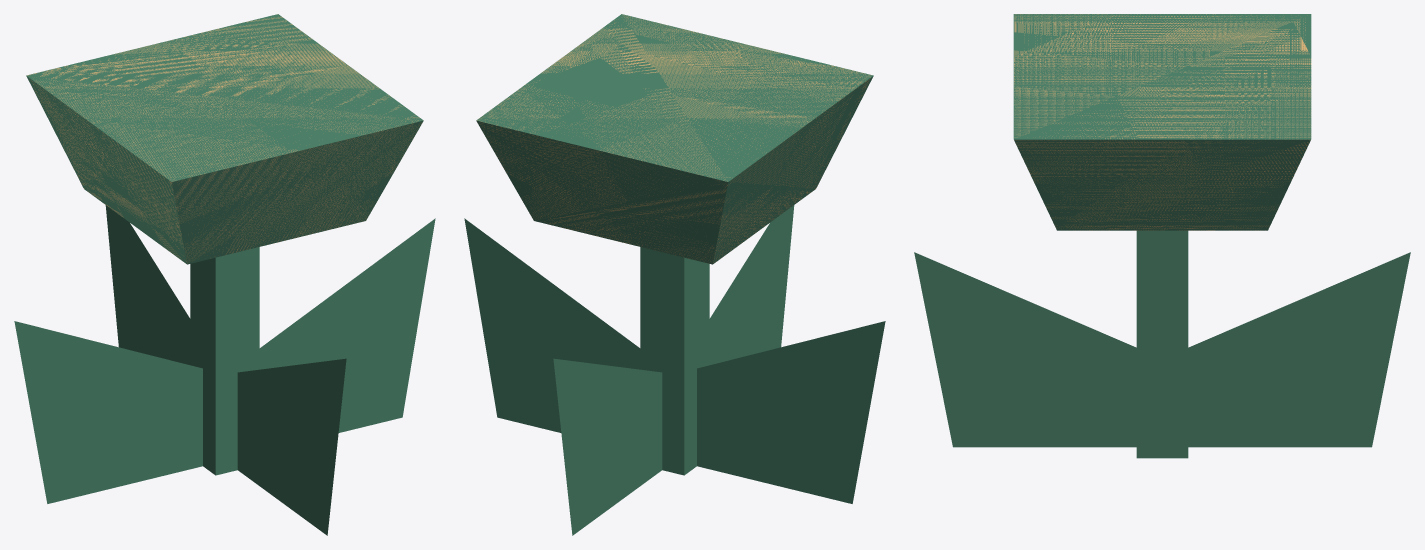
File: naturePack_flat_006.fbx
The picture shows the model from 3 angles, left to right: view 1: azimuth 30°, elevation 25°; view 2: azimuth 150°, elevation 25°; view 3: azimuth 270°, elevation 25°; orthographic projection. The views are drawn at different scales.
Parts seen in each view (by area): view 1: Mesh3_Flower_Yellow Model, Mesh4_Flower_Yellow Model, Mesh1_Flower_Yellow Model, Mesh2_Flower_Yellow Model, Mesh5_Flower_Yellow Model; view 2: Mesh3_Flower_Yellow Model, Mesh4_Flower_Yellow Model, Mesh1_Flower_Yellow Model, Mesh5_Flower_Yellow Model, Mesh2_Flower_Yellow Model; view 3: Mesh3_Flower_Yellow Model, Mesh2_Flower_Yellow Model, Mesh5_Flower_Yellow Model.
Boxes of the visible parts, x1,y1,x2,y2 form: Mesh3_Flower_Yellow Model: (26,14,423,475); Mesh4_Flower_Yellow Model: (14,321,202,503); Mesh1_Flower_Yellow Model: (259,218,435,432); Mesh2_Flower_Yellow Model: (237,358,346,535); Mesh5_Flower_Yellow Model: (105,205,190,364); Mesh3_Flower_Yellow Model: (476,14,873,475); Mesh4_Flower_Yellow Model: (697,321,885,503); Mesh1_Flower_Yellow Model: (464,218,640,432); Mesh5_Flower_Yellow Model: (553,358,662,535); Mesh2_Flower_Yellow Model: (709,205,794,364); Mesh3_Flower_Yellow Model: (1013,14,1311,458); Mesh2_Flower_Yellow Model: (914,252,1136,447); Mesh5_Flower_Yellow Model: (1188,252,1410,447).
Size of the model in its own units: 0.4859 by 0.4 by 0.4859.
